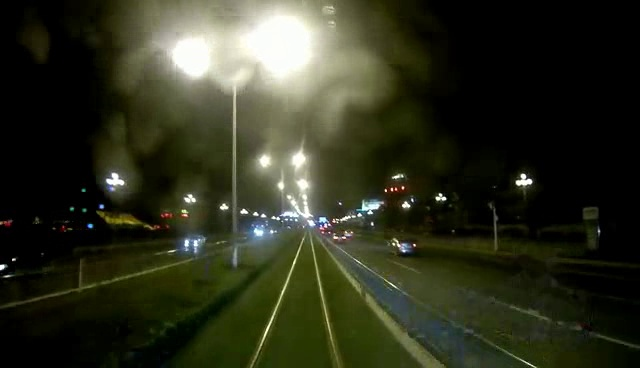car: (386, 236, 422, 260)
